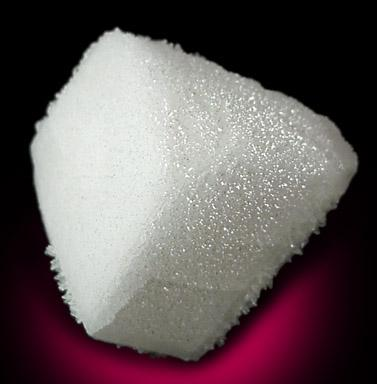calcite: (31, 29, 358, 360)
